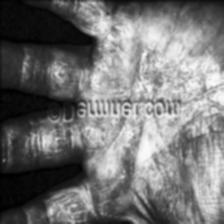Non-Cancerous Skin Condition: (0, 0, 128, 87), (92, 125, 200, 212), (140, 21, 224, 96), (0, 187, 87, 224)
